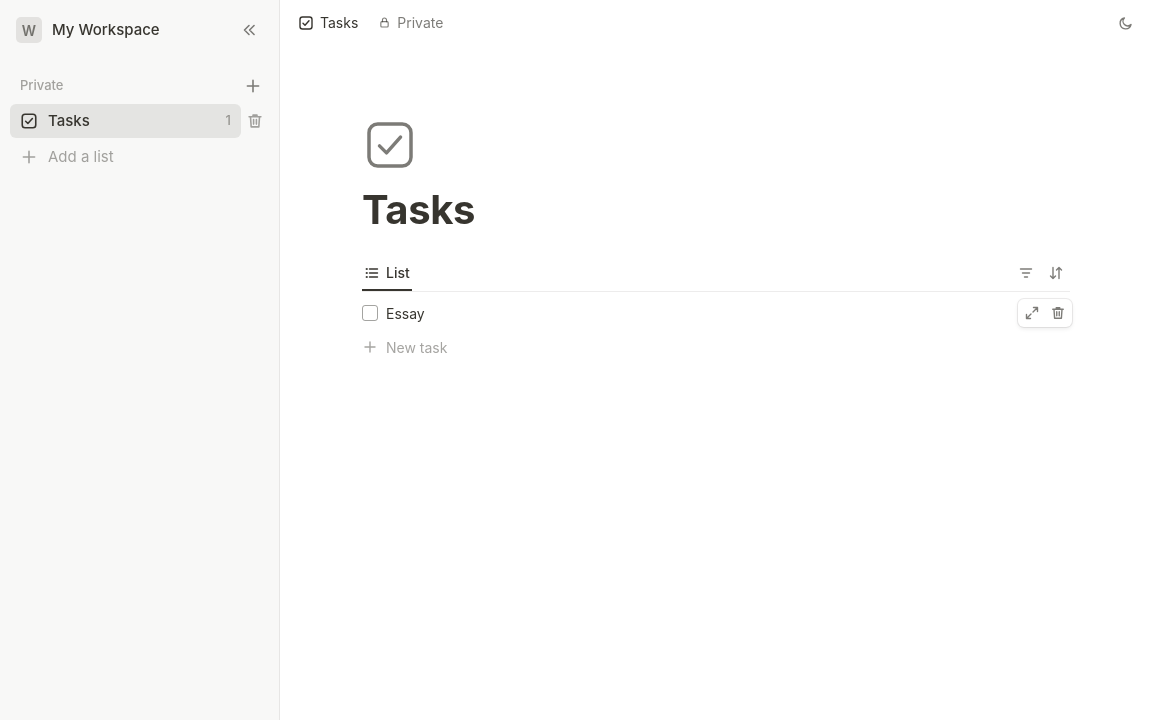
Test: editing tasks › closes the panel for good when its task leaves the filtered view
Expected: the field labelled "New task" is shown, [386, 334, 1070, 360]
Click the button named "Filter": (1026,272) [1012, 258, 1040, 286]
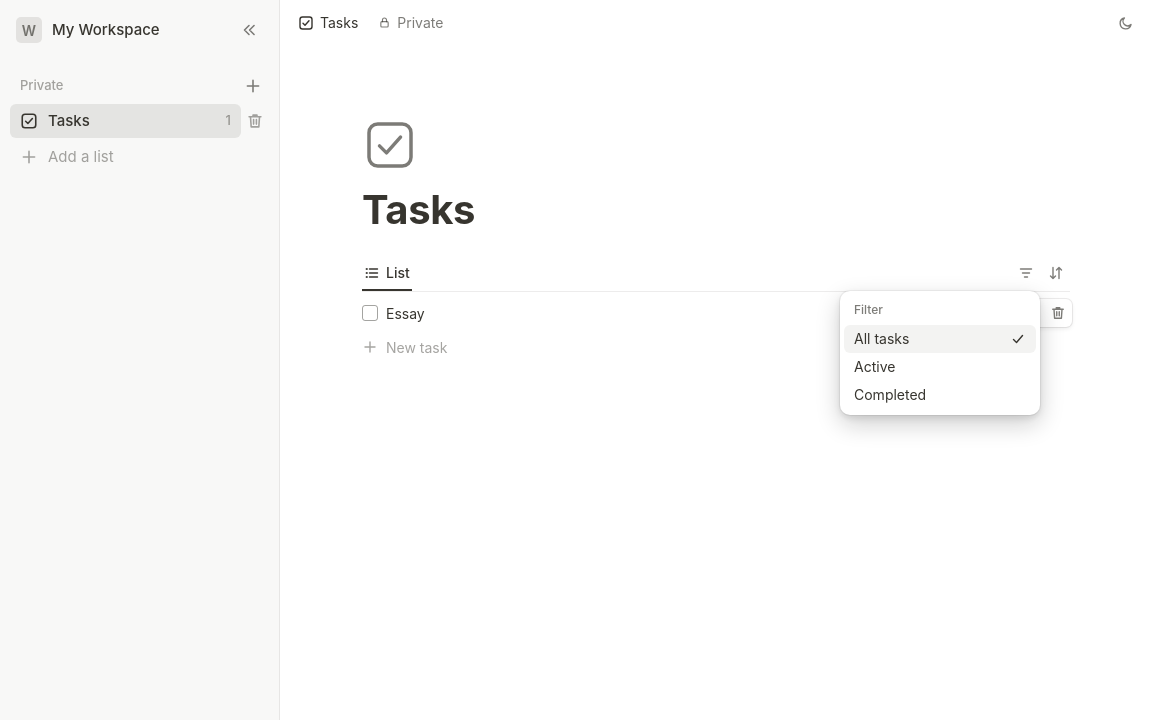
Click the menu item "Active": (940,366) [844, 352, 1036, 380]
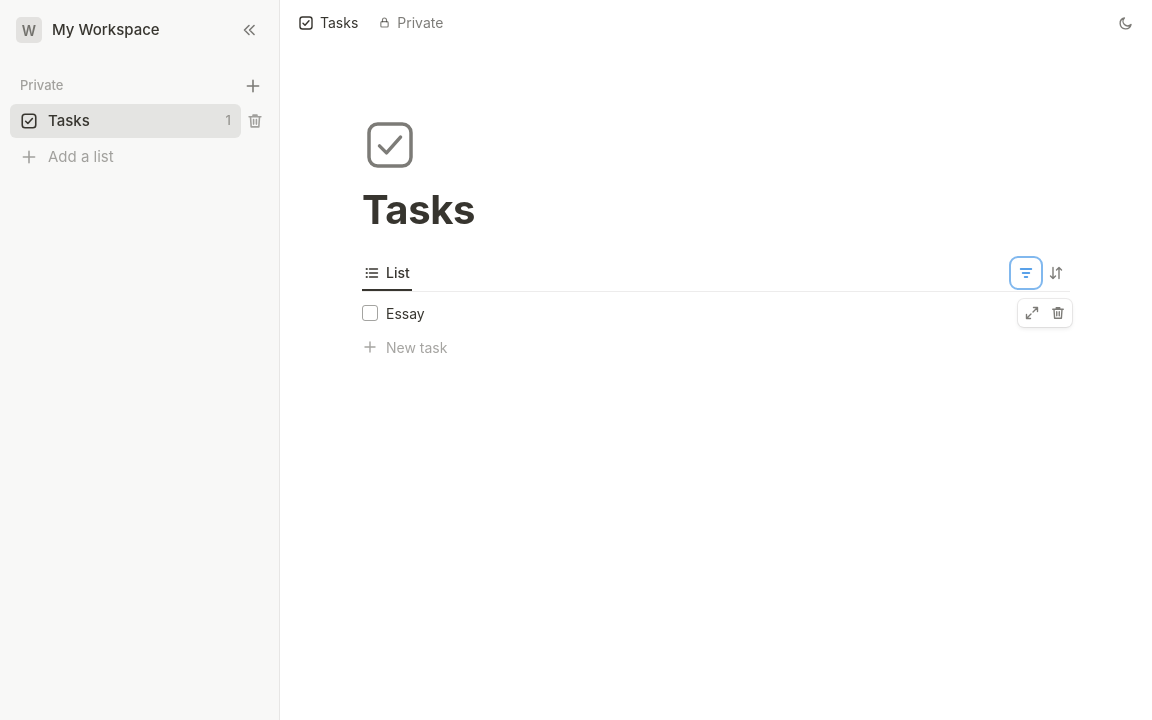
Click the button named "Open: Essay": (1032,313) [1020, 301, 1044, 325]
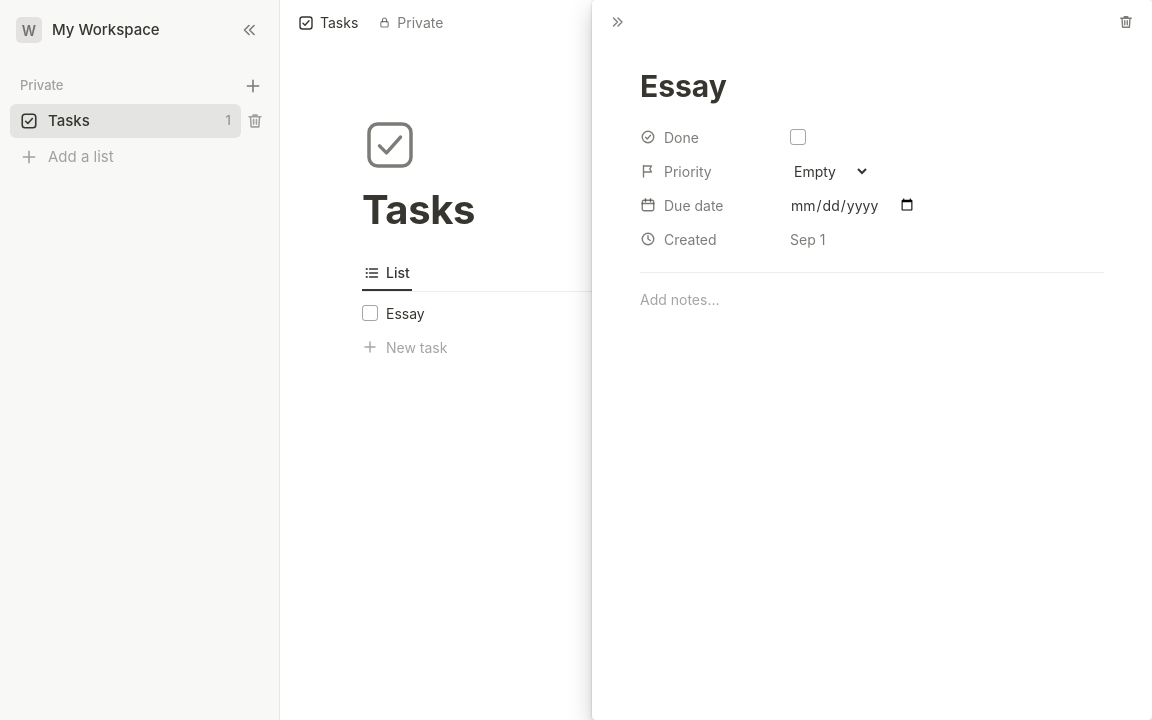
Click the checkbox labelled "Done": (798,137) [790, 129, 806, 145]
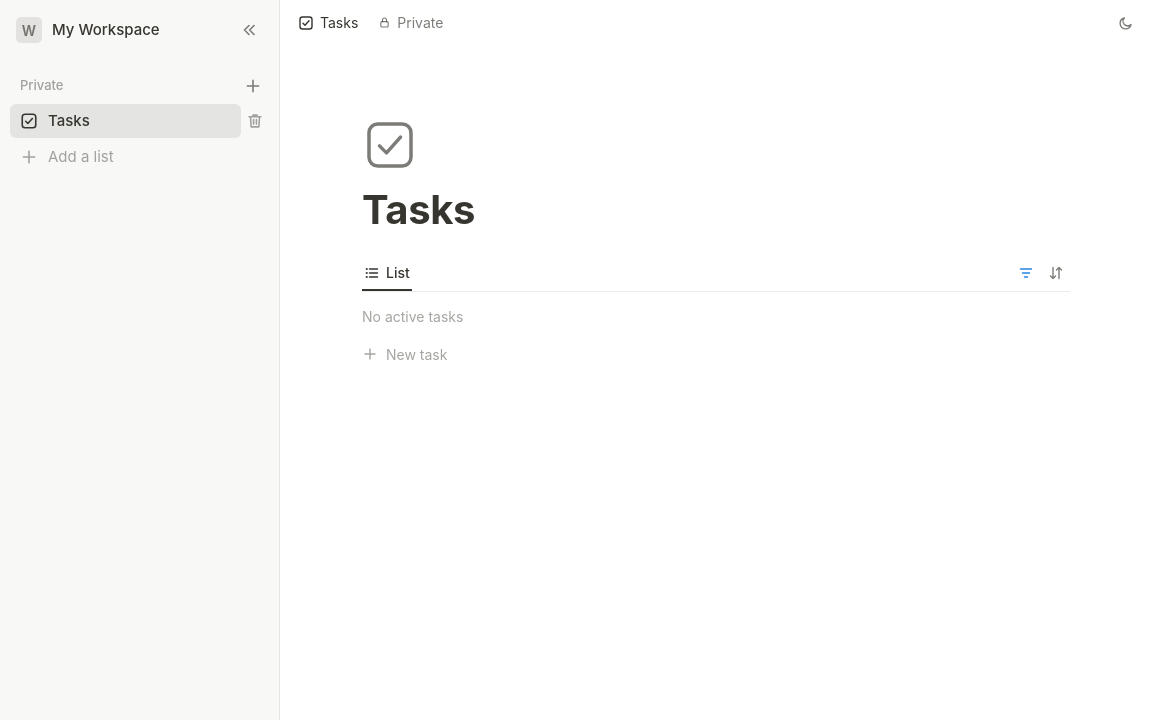
Expected: the dialog is gone
Click the button named "Filter": (1026,272) [1012, 258, 1040, 286]
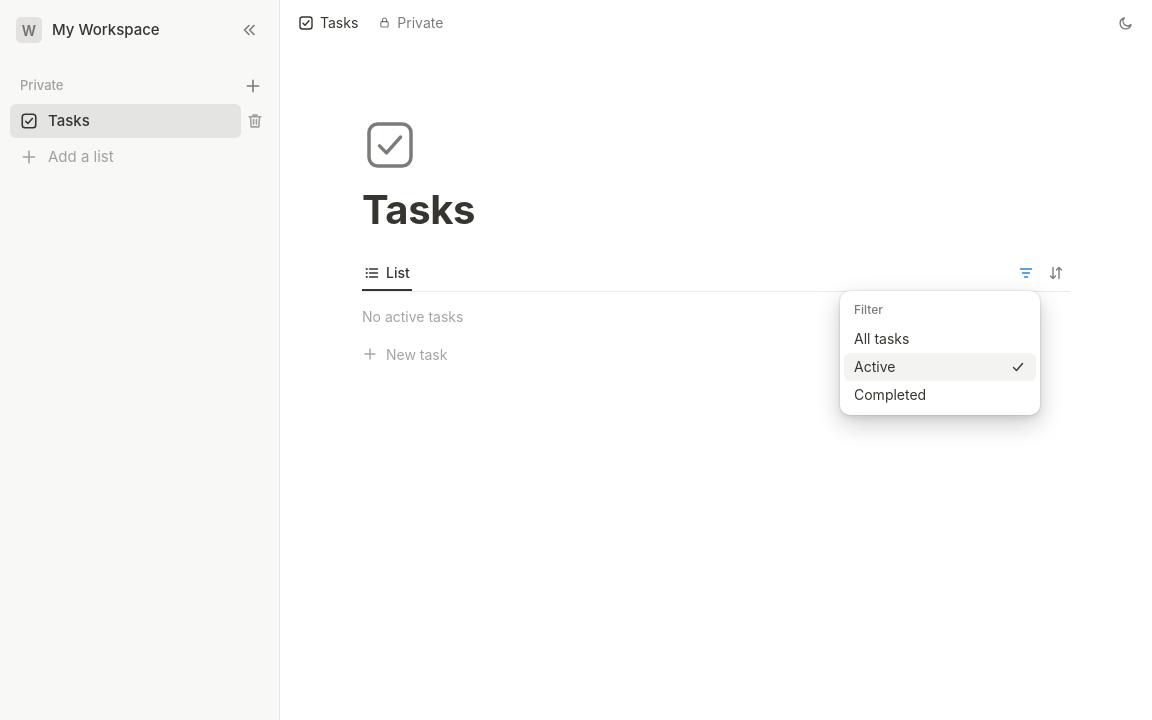
Click the menu item "All tasks": (940,338) [844, 324, 1036, 352]
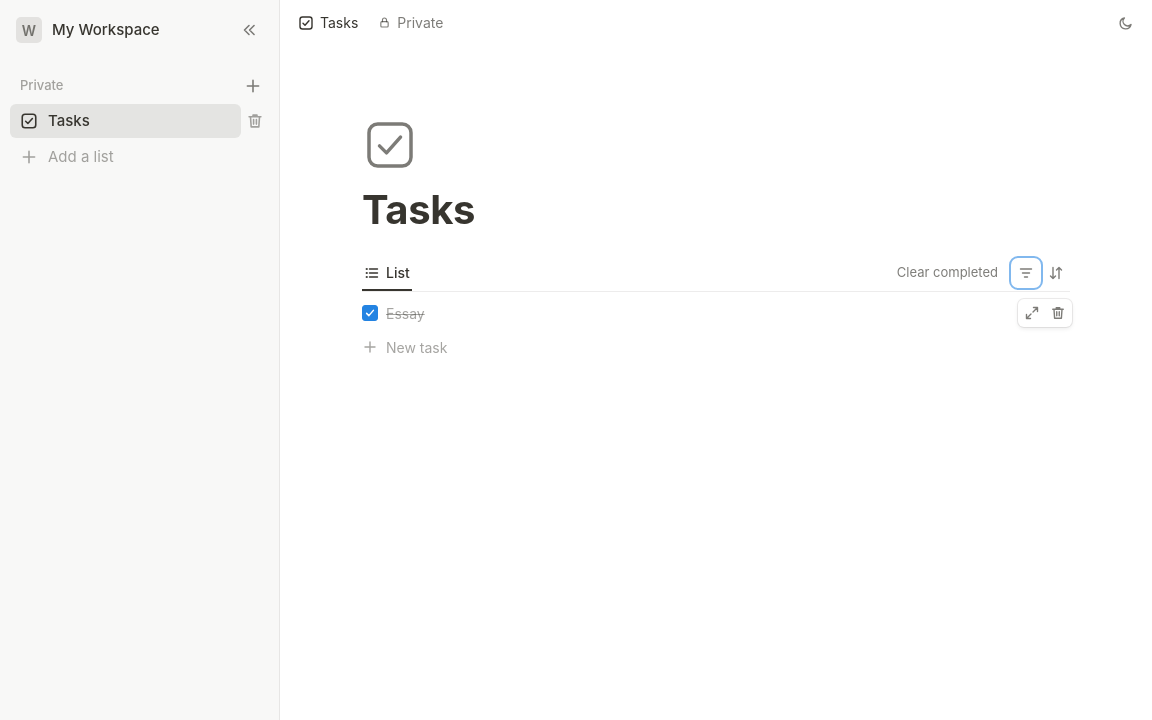
Expected: the button named "Edit title: Essay" is shown, [386, 300, 1062, 326]
